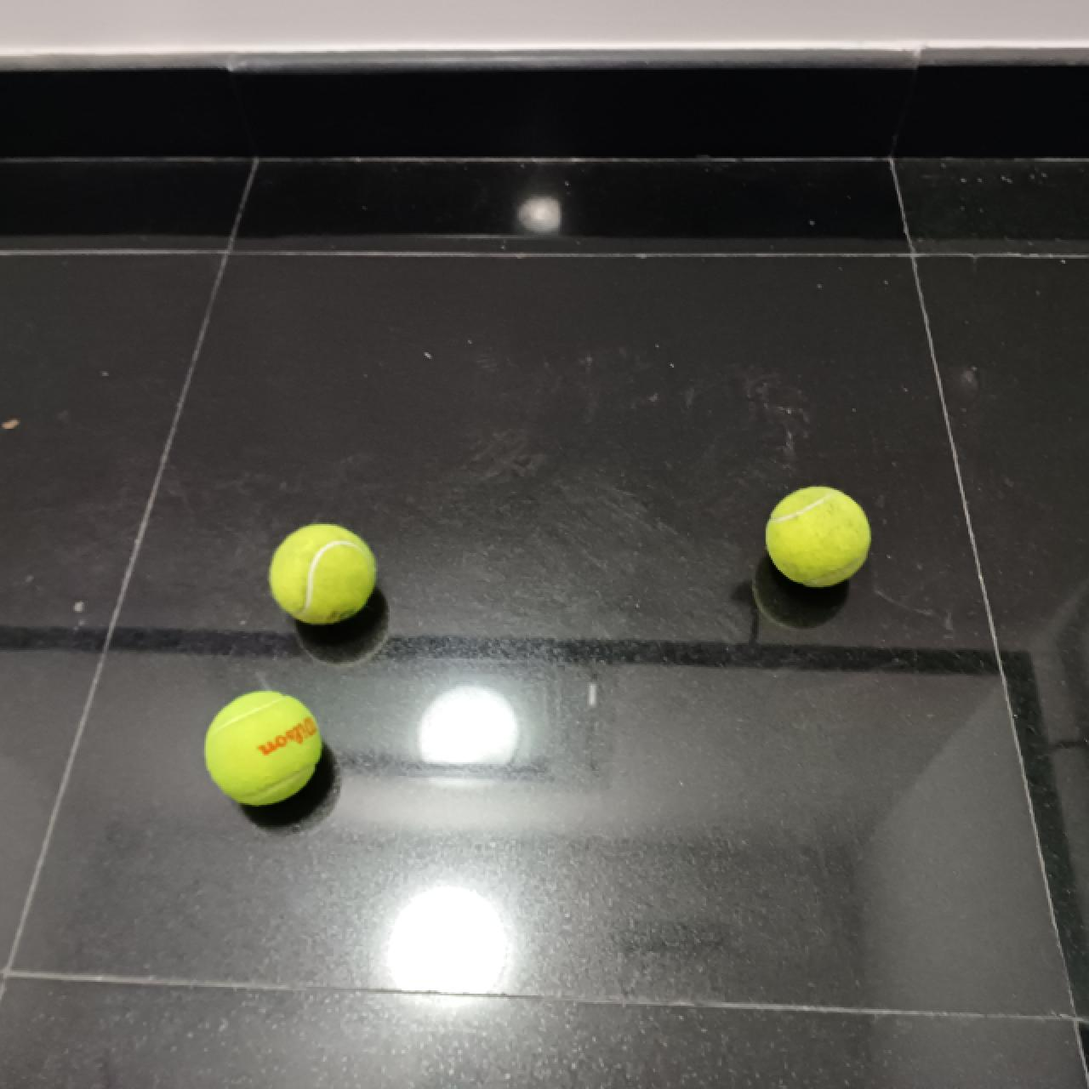tennis-ball: (202, 688, 322, 806), (268, 521, 377, 626), (766, 483, 871, 585)
